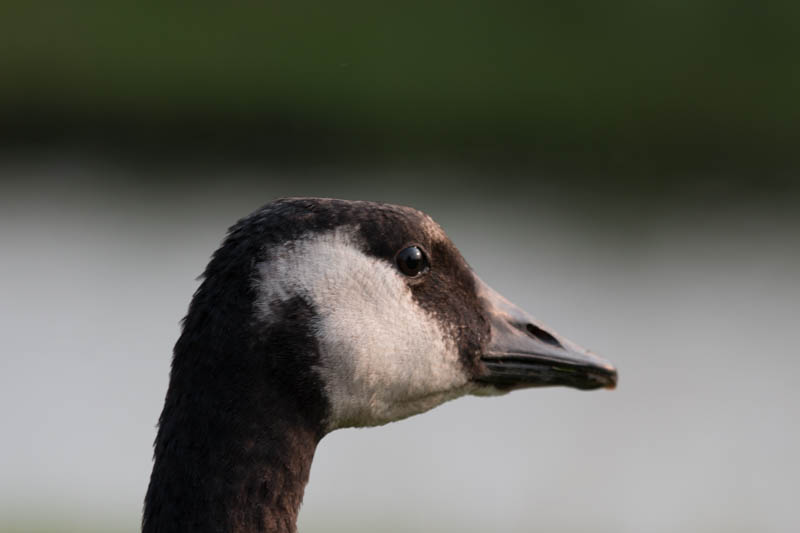goose-head: (167, 197, 618, 429)
